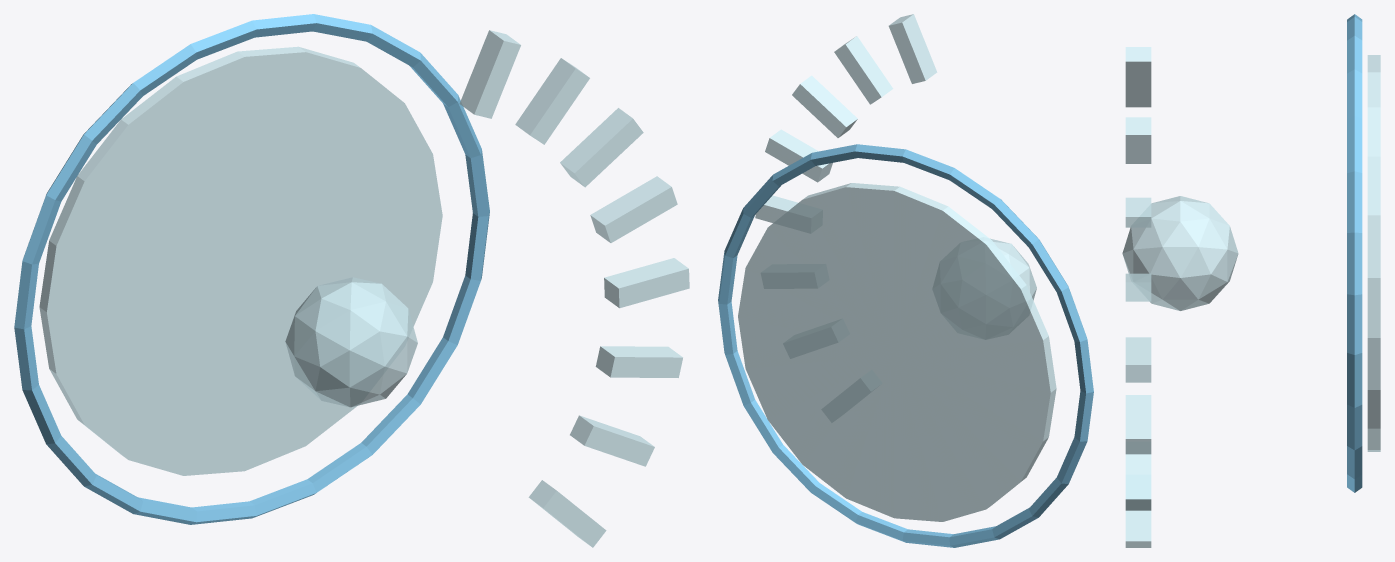
File: 01_class_special_attack_vfx.glb
The picture shows the model from 3 angles, left to right: view 1: azimuth 30°, elevation 25°; view 2: azimuth 150°, elevation 25°; view 3: azimuth 270°, elevation 25°; orthographic projection. The views are drawn at different scales.
Visible parts, largest first — view 1: ability_cast_disc, ability_outer_ring, class_energy_core, attack_flow_arc_seg_7, attack_flow_arc_seg_5, attack_flow_arc_seg_6, attack_flow_arc_seg_4, attack_flow_arc_seg_3, attack_flow_arc_seg_2, attack_flow_arc_seg_1, attack_flow_arc_seg_0; view 2: ability_cast_disc, ability_outer_ring, attack_flow_arc_seg_7, attack_flow_arc_seg_5, attack_flow_arc_seg_6, attack_flow_arc_seg_4, class_energy_core, attack_flow_arc_seg_3; view 3: class_energy_core, ability_outer_ring, ability_cast_disc, attack_flow_arc_seg_7, attack_flow_arc_seg_2, attack_flow_arc_seg_1, attack_flow_arc_seg_6, attack_flow_arc_seg_3, attack_flow_arc_seg_0, attack_flow_arc_seg_5, attack_flow_arc_seg_4.
Part boxes in pixels (bbox=[...]): ability_cast_disc: bbox=[39, 46, 442, 475]; ability_outer_ring: bbox=[14, 14, 489, 524]; class_energy_core: bbox=[285, 277, 417, 407]; attack_flow_arc_seg_7: bbox=[459, 30, 520, 118]; attack_flow_arc_seg_5: bbox=[560, 108, 643, 187]; attack_flow_arc_seg_6: bbox=[515, 58, 589, 144]; attack_flow_arc_seg_4: bbox=[590, 176, 677, 242]; attack_flow_arc_seg_3: bbox=[604, 258, 689, 308]; attack_flow_arc_seg_2: bbox=[595, 346, 682, 377]; attack_flow_arc_seg_1: bbox=[570, 415, 654, 466]; attack_flow_arc_seg_0: bbox=[528, 480, 606, 547]; ability_cast_disc: bbox=[738, 183, 1056, 521]; ability_outer_ring: bbox=[718, 144, 1093, 547]; attack_flow_arc_seg_7: bbox=[888, 14, 937, 83]; attack_flow_arc_seg_5: bbox=[792, 75, 857, 137]; attack_flow_arc_seg_6: bbox=[834, 36, 893, 104]; attack_flow_arc_seg_4: bbox=[765, 129, 832, 182]; class_energy_core: bbox=[990, 238, 1036, 300]; attack_flow_arc_seg_3: bbox=[755, 195, 798, 222]; class_energy_core: bbox=[1122, 196, 1238, 310]; ability_outer_ring: bbox=[1347, 14, 1362, 492]; ability_cast_disc: bbox=[1367, 55, 1380, 451]; attack_flow_arc_seg_7: bbox=[1125, 47, 1151, 107]; attack_flow_arc_seg_2: bbox=[1125, 395, 1151, 454]; attack_flow_arc_seg_1: bbox=[1125, 454, 1151, 510]; attack_flow_arc_seg_6: bbox=[1125, 117, 1151, 163]; attack_flow_arc_seg_3: bbox=[1125, 337, 1151, 382]; attack_flow_arc_seg_0: bbox=[1125, 510, 1151, 547]; attack_flow_arc_seg_5: bbox=[1125, 197, 1151, 227]; attack_flow_arc_seg_4: bbox=[1125, 273, 1151, 301].
Size of the model in its own units: 1.71 by 1.63 by 0.8.
